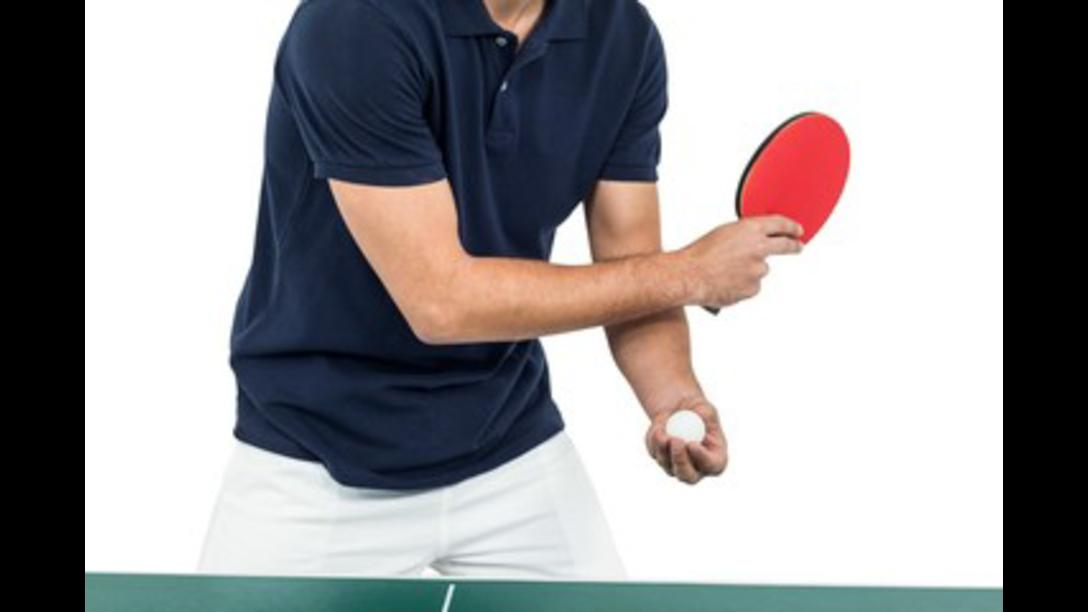Table-Tennis-Ball: (668, 410, 704, 444)
